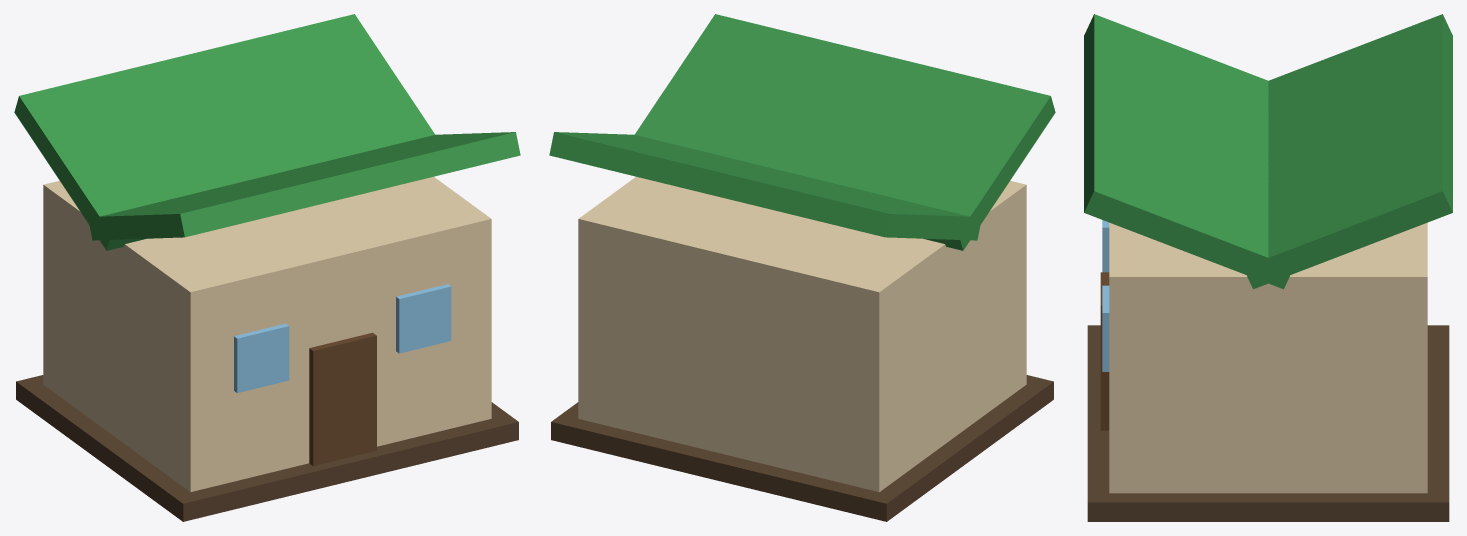
File: house_green.glb
3 renders of one model, left to right at view 1: azimuth 30°, elevation 25°; view 2: azimuth 150°, elevation 25°; view 3: azimuth 270°, elevation 25°, orthographic. The views are drawn at different scales.
Visible parts, largest first — view 1: house_green; view 2: house_green; view 3: house_green.
Part boxes in pixels (x1,y1,x2,y2): house_green: (14, 14, 520, 521); house_green: (549, 14, 1055, 521); house_green: (1084, 14, 1452, 521).
Bounding box in the file's own units: 2.9 × 2.52 × 2.55.
